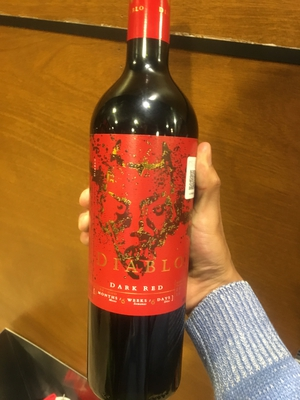diablo dark red: (78, 4, 206, 384)
